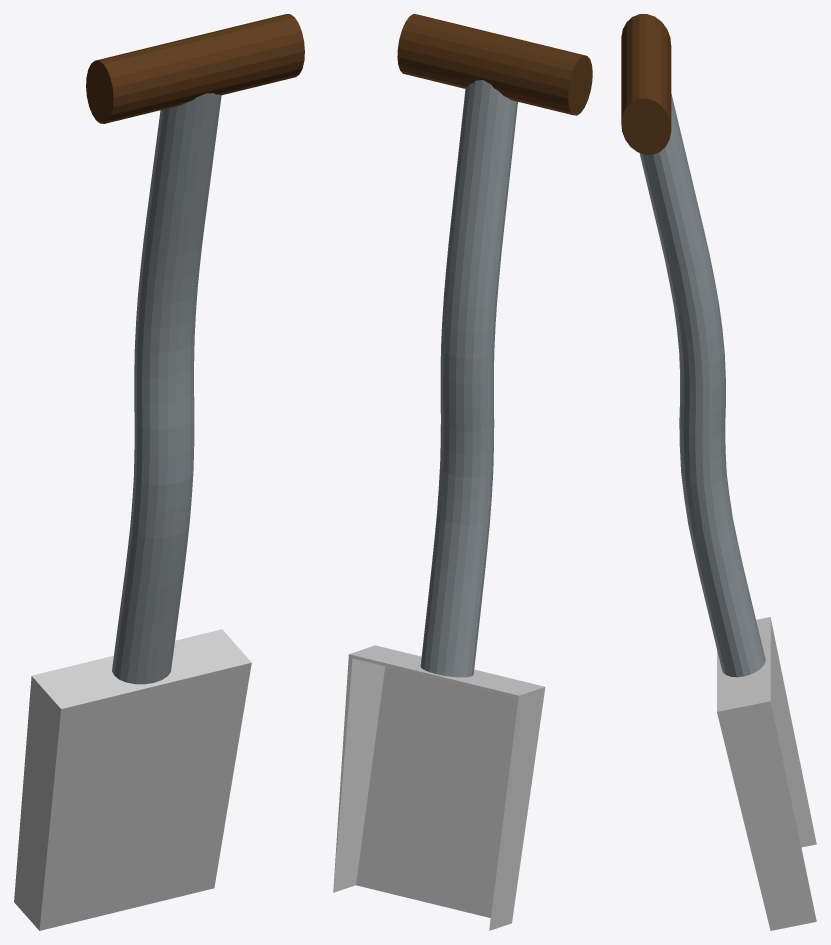
Rendered from Scale v1.1 Shovel.fbx.
3 views of the same model, side by side, from view 1: azimuth 30°, elevation 25°; view 2: azimuth 150°, elevation 25°; view 3: azimuth 270°, elevation 25° (orthographic). The views are drawn at different scales.
Parts seen in each view (by area): view 1: Shovel; view 2: Shovel; view 3: Shovel.
Boxes of the visible parts, bbox=[...] form: Shovel: bbox=[14, 14, 304, 930]; Shovel: bbox=[333, 14, 592, 930]; Shovel: bbox=[621, 14, 816, 930].
Bounding box in the file's own units: 15.43 × 71.04 × 15.06.
